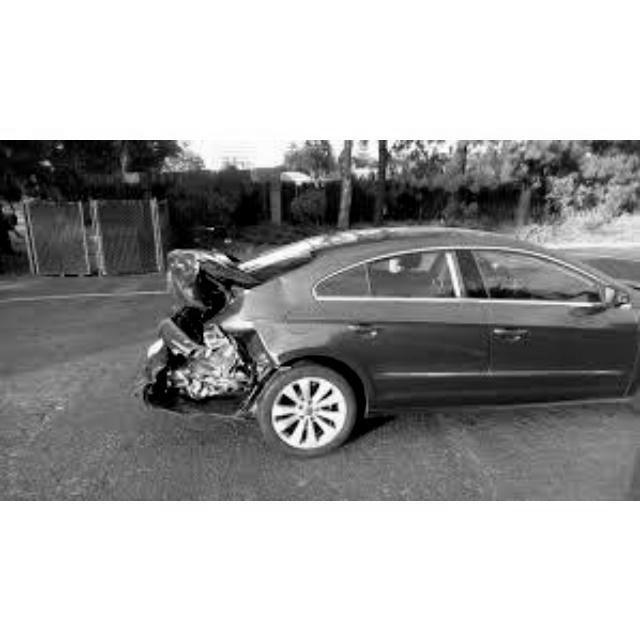boot-dent: (149, 247, 238, 328)
rear-bumper-dent: (159, 338, 259, 408)
